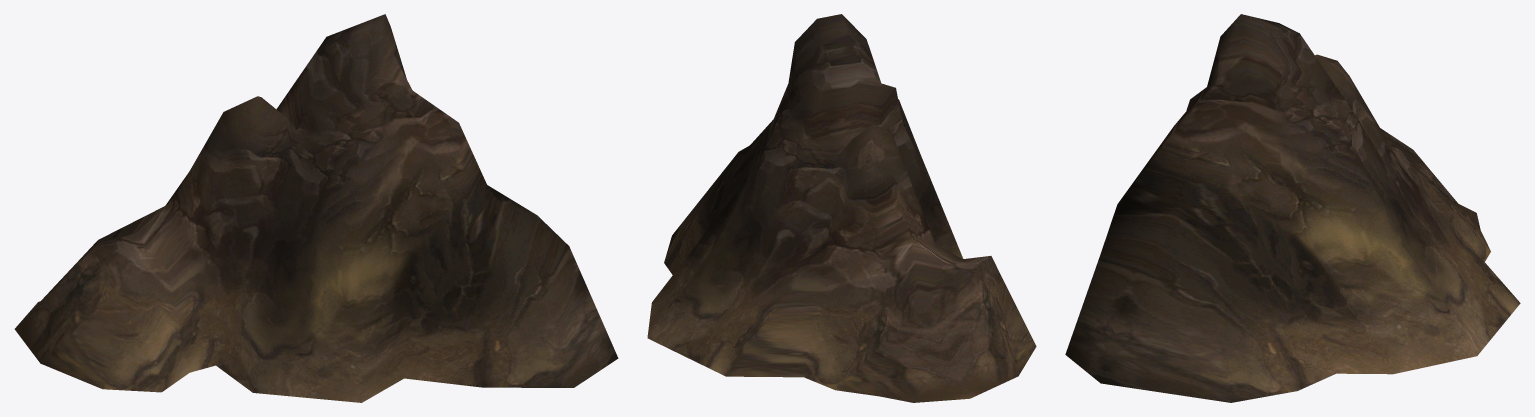
Rendered from 10502_stone10.FBX.
The picture shows the model from 3 angles, left to right: view 1: azimuth 30°, elevation 25°; view 2: azimuth 150°, elevation 25°; view 3: azimuth 270°, elevation 25°; orthographic projection. The views are drawn at different scales.
Visible parts, largest first — view 1: 10502_stone10; view 2: 10502_stone10; view 3: 10502_stone10.
Boxes of the visible parts, left/top/right/bottom form: 10502_stone10: left=14, top=14, right=618, bottom=402; 10502_stone10: left=647, top=14, right=1036, bottom=402; 10502_stone10: left=1065, top=14, right=1520, bottom=402.
Size of the model in its own units: 709 by 448 by 626.
